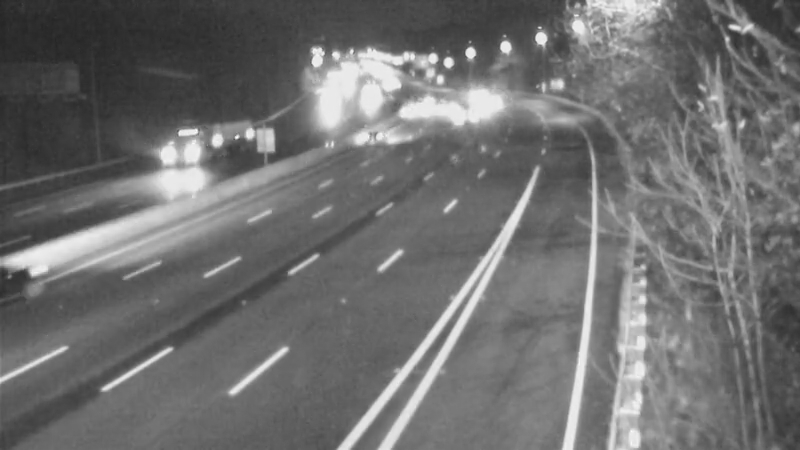vehicle: (158, 111, 238, 191), (1, 234, 66, 314), (453, 66, 503, 116), (386, 84, 436, 134), (433, 95, 483, 145), (458, 80, 508, 130), (341, 114, 391, 164)
